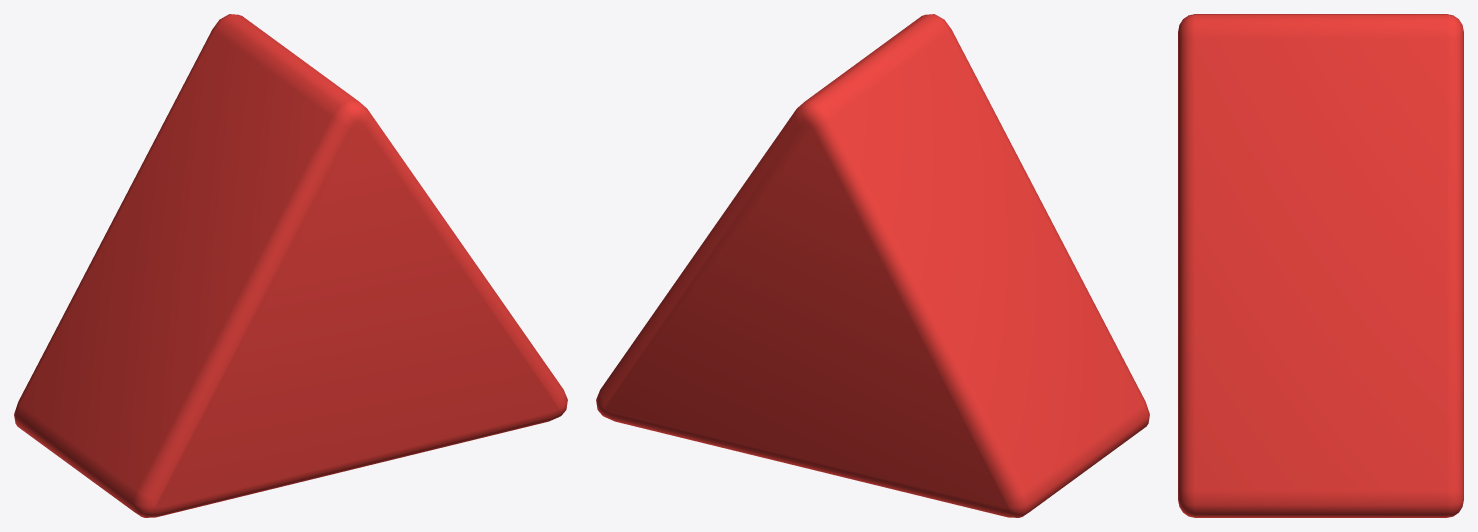
Rendered from red_triangle_pointed_up.glb.
3 views of the same model, side by side, from view 1: azimuth 30°, elevation 25°; view 2: azimuth 150°, elevation 25°; view 3: azimuth 270°, elevation 25° (orthographic). The views are drawn at different scales.
Parts seen in each view (by area): view 1: Cube.6669; view 2: Cube.6669; view 3: Cube.6669.
Part boxes in pixels (<box>): Cube.6669: <box>14,14,567,517</box>; Cube.6669: <box>596,14,1149,517</box>; Cube.6669: <box>1178,14,1463,517</box>.
Size of the model in its own units: 1.88 by 1.53 by 1.
Materials: 1 (1 with a texture image).
